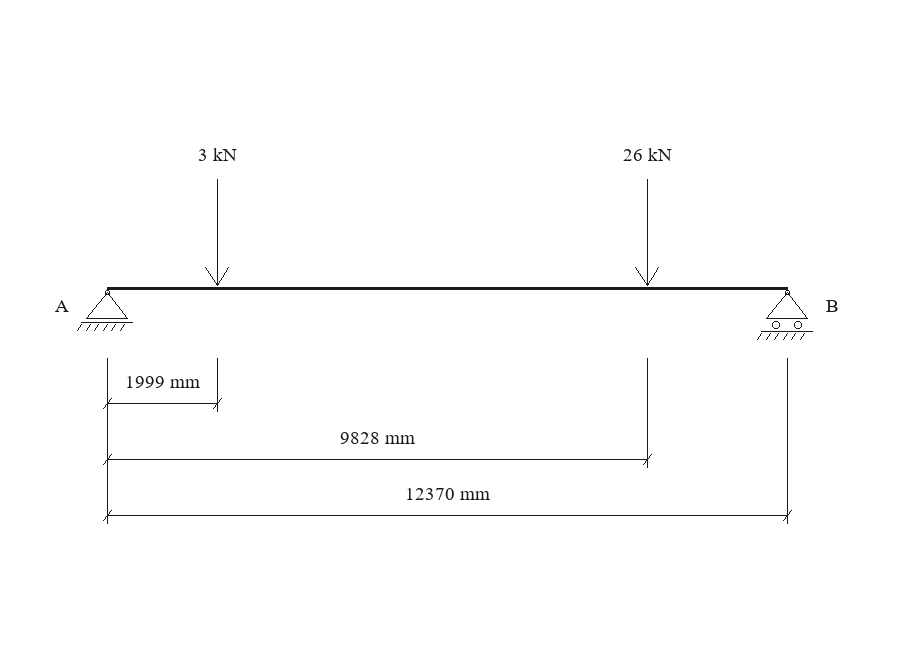pin_support: (77, 290, 133, 331)
point_load: (205, 179, 229, 286), (635, 179, 659, 286)
roller_support: (757, 290, 813, 340)
